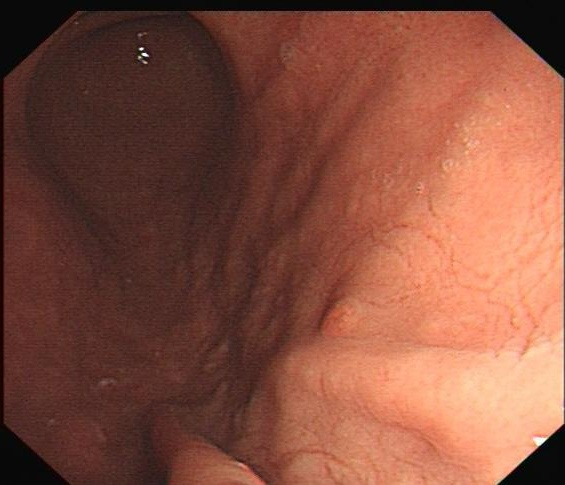Polyp: (310, 298, 369, 350)
